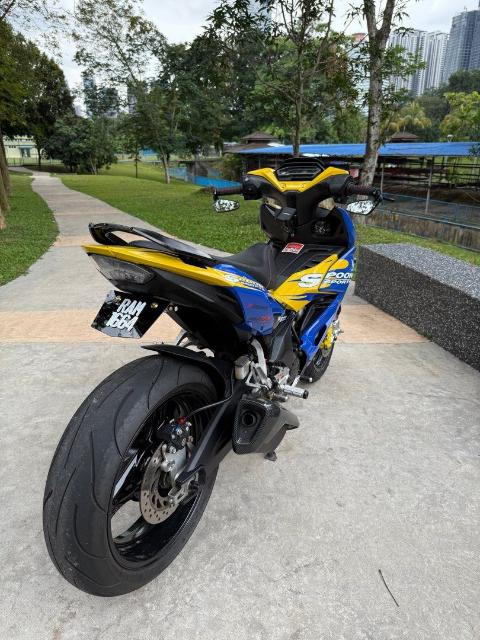License_Plate: (97, 292, 157, 339)
motorcycle: (42, 157, 394, 598)
